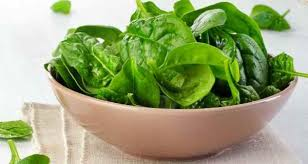spinach: (87, 25, 256, 93)
